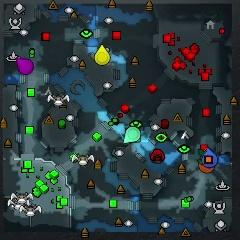p1: (202, 147, 219, 168)
p2: (123, 126, 141, 144)
p3: (15, 55, 34, 77)
p4: (95, 45, 110, 66)
p5: (197, 163, 213, 173)
x4: (197, 149, 206, 165)
